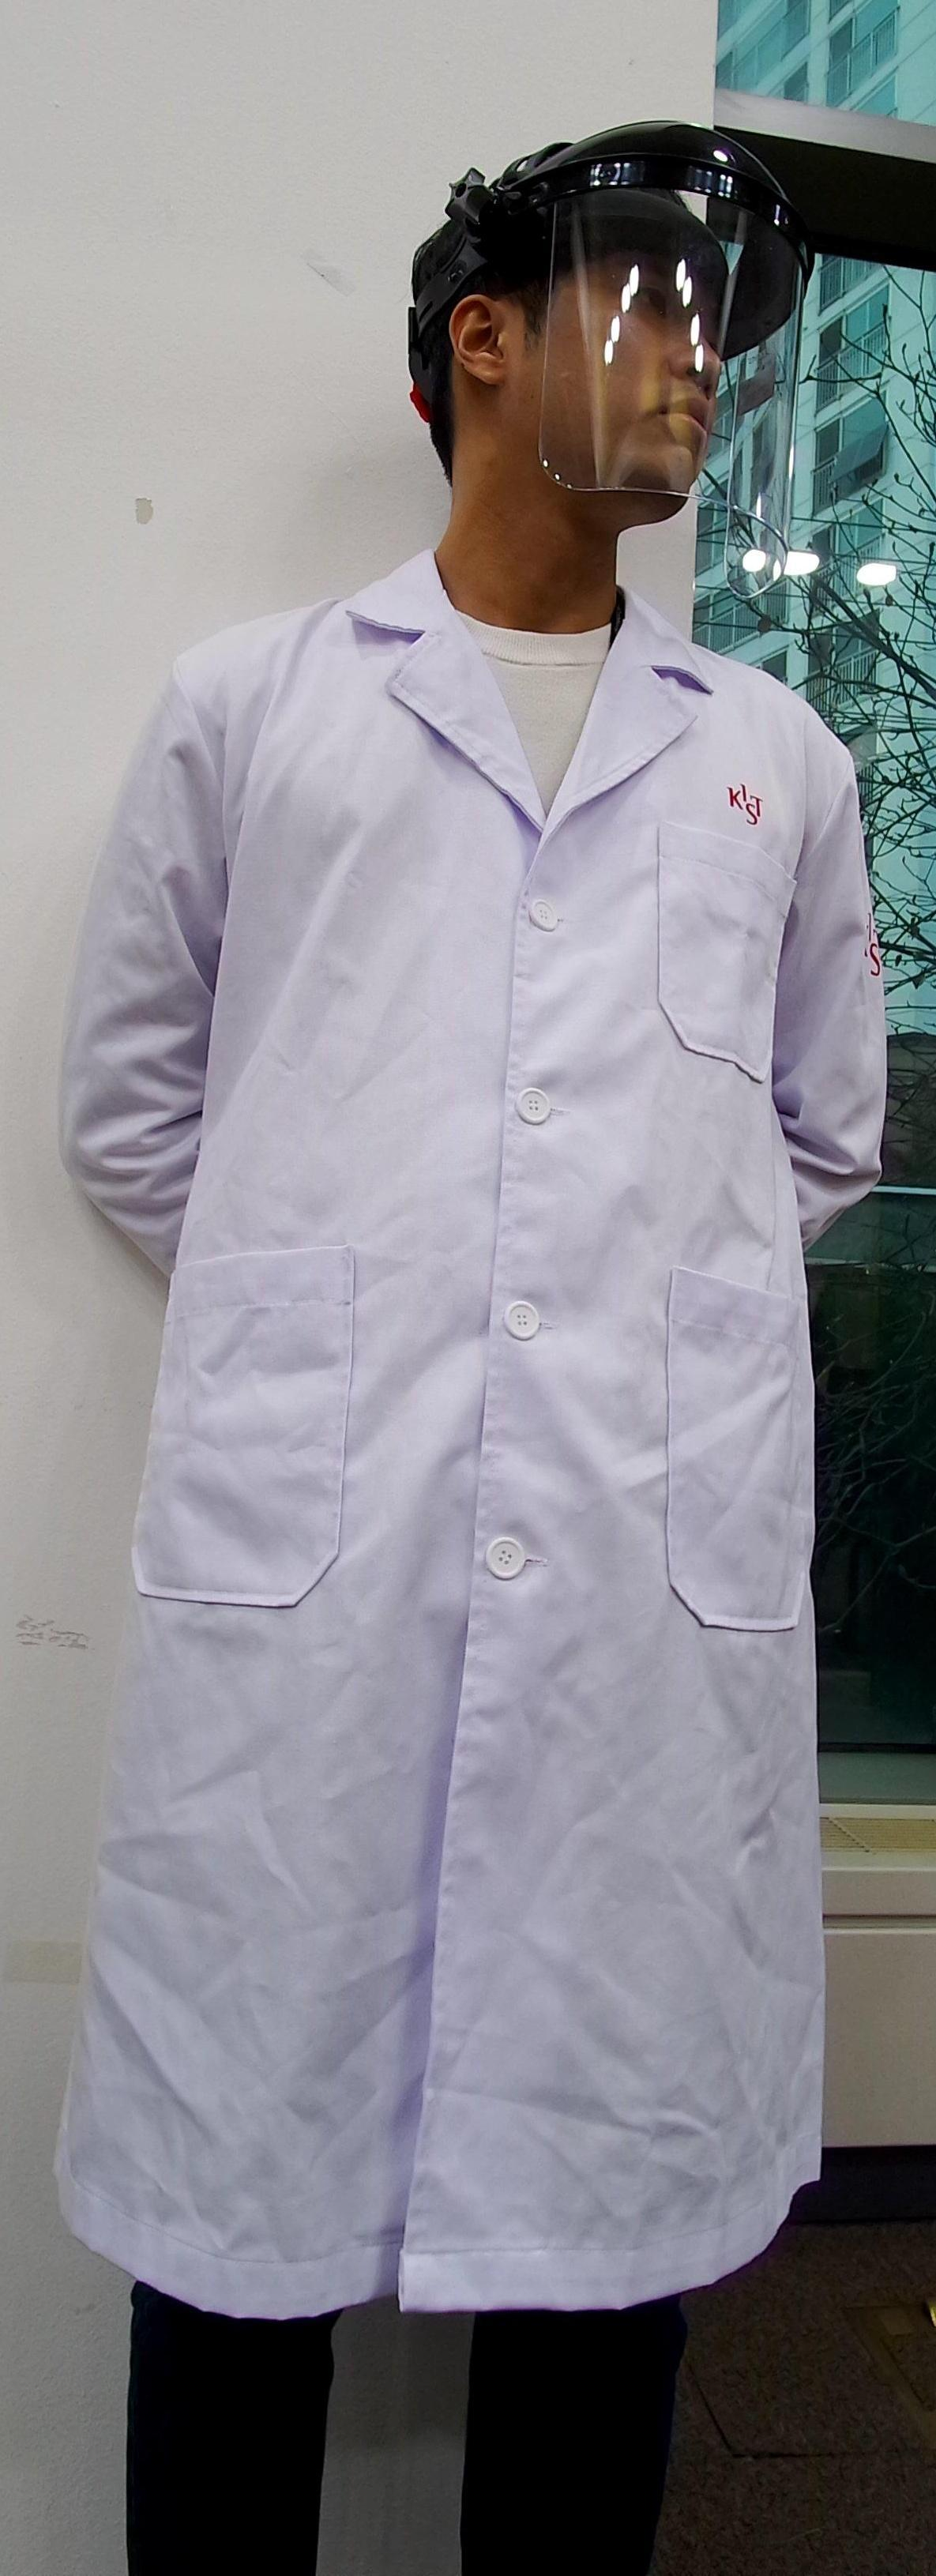lab_coat: (72, 641, 900, 2249)
